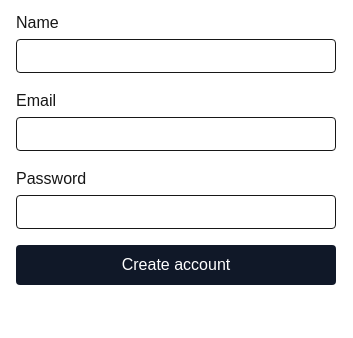
Scenario: RegisterPage › shows a server-provided error message on failed submission
The image size is (353, 338).
Step 1. Type "Test" into the field labelled "Name" → (176, 56), box [16,39,336,73]
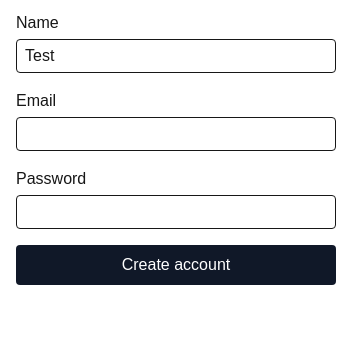
Step 2. Type "test@example.com" into the field labelled "Email" → (176, 134), box [16,117,336,151]
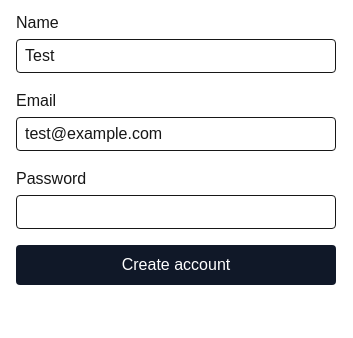
Step 3. Type "Sup3rSecret!" into the password field labelled "Password" → (176, 212), box [16,195,336,229]
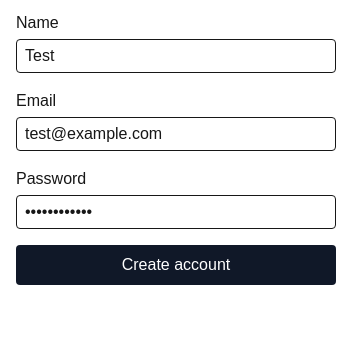
Step 4. Click the button "Create account" → (176, 265), box [16,245,336,285]
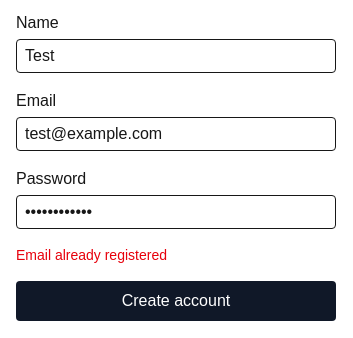
Expected: the text "Email already registered" is shown, [16,247,167,263]
